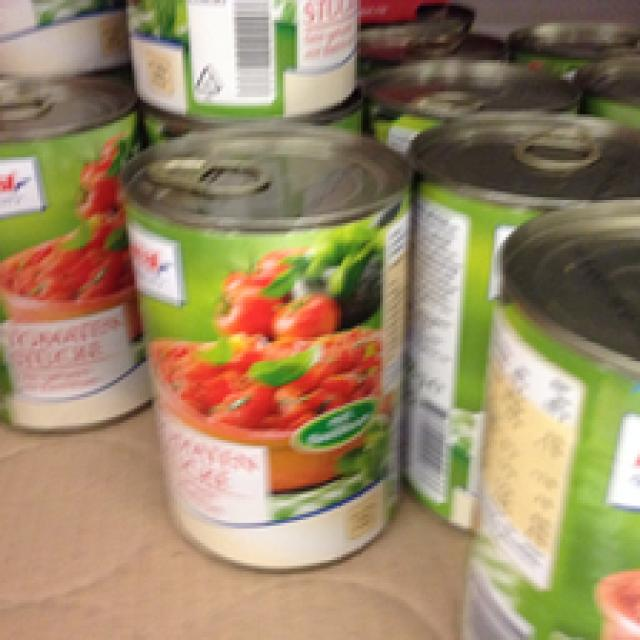groceries: (114, 123, 406, 571), (449, 194, 634, 637), (0, 72, 146, 434)
